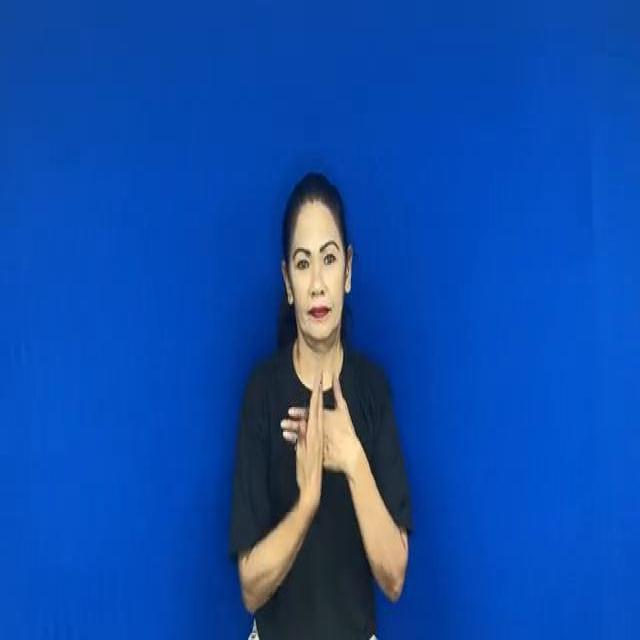bread: (283, 369, 365, 512)
